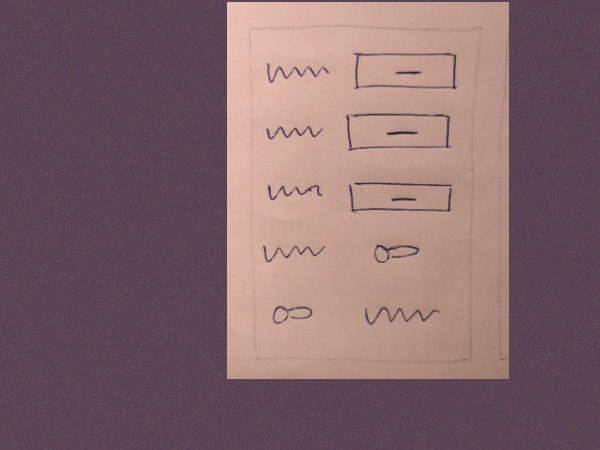button: (345, 170, 455, 221), (350, 46, 460, 96), (343, 104, 453, 154)
switch: (363, 235, 423, 270), (263, 293, 323, 328)
text: (360, 297, 442, 332), (359, 296, 441, 331), (260, 170, 333, 208), (260, 58, 333, 95), (259, 111, 332, 148), (259, 237, 332, 274)
